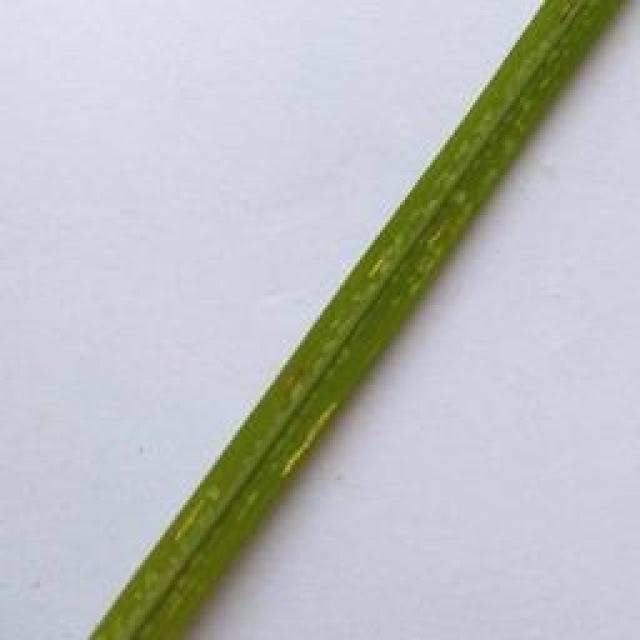Bacterial_Blight: (274, 387, 349, 483)
Brown_Spot: (269, 354, 308, 394)
